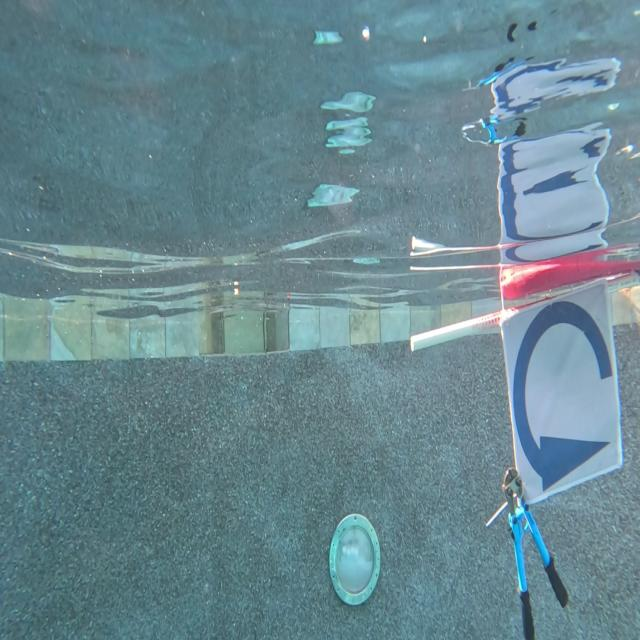blue_side: (509, 310, 619, 488)
